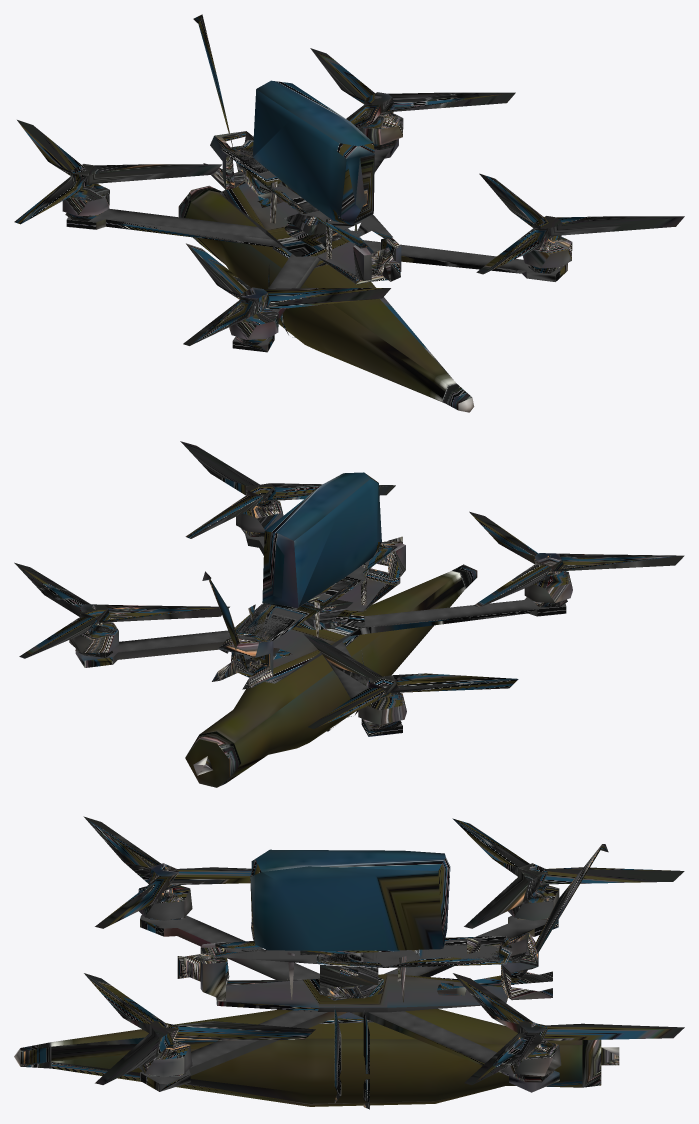
File: drone_lo.glb
The picture shows the model from 3 angles, top to bottom: view 1: azimuth 30°, elevation 25°; view 2: azimuth 150°, elevation 25°; view 3: azimuth 270°, elevation 25°; orthographic projection. The views are drawn at different scales.
Bounding box in the file's own units: 0.3077 × 0.1398 × 0.3245.
Materials: 1 (1 with a texture image).
